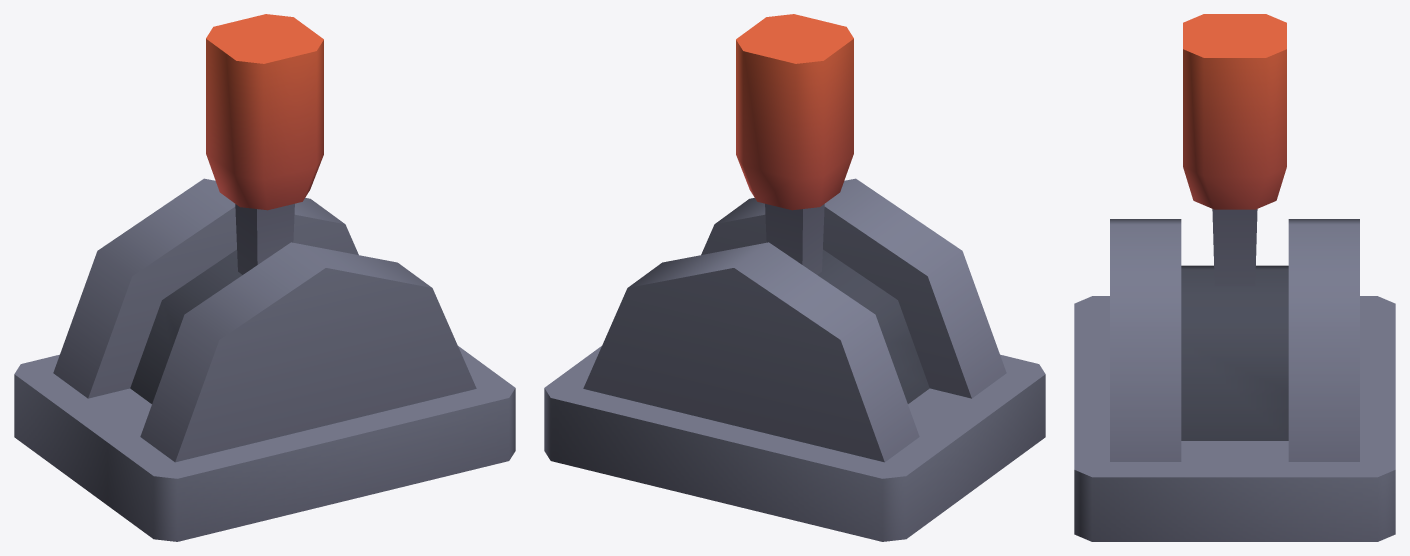
The model's file is lever.glb.
3 renders of one model, left to right at view 1: azimuth 30°, elevation 25°; view 2: azimuth 150°, elevation 25°; view 3: azimuth 270°, elevation 25°, orthographic. The views are drawn at different scales.
Parts seen in each view (by area): view 1: lever, handle; view 2: lever, handle; view 3: lever, handle.
Part boxes in pixels (x1=…): lever: x1=14, y1=178, x2=515, y2=541; handle: x1=206, y1=14, x2=323, y2=274; lever: x1=544, y1=178, x2=1045, y2=541; handle: x1=736, y1=14, x2=853, y2=274; lever: x1=1074, y1=219, x2=1395, y2=541; handle: x1=1183, y1=14, x2=1286, y2=286.
Bounding box in the file's own units: 0.6 × 0.6418 × 0.45.
1 material, 1 textured.
